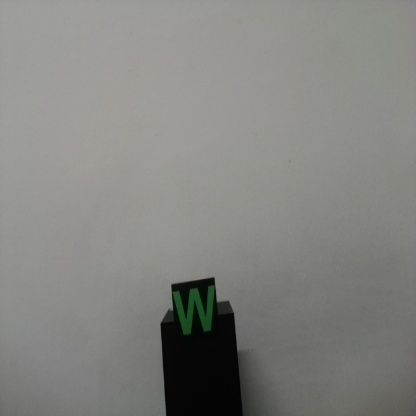id_12: (171, 283, 218, 343)
